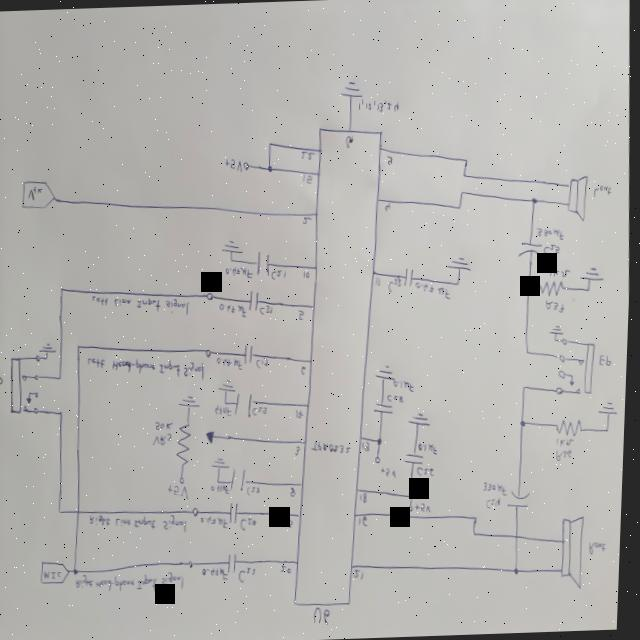capacitor: (510, 487, 535, 512), (235, 392, 257, 419), (232, 466, 252, 493), (518, 240, 545, 260), (257, 252, 273, 276), (406, 450, 427, 467), (249, 289, 263, 313), (244, 343, 257, 365), (375, 402, 396, 414), (231, 552, 240, 574), (232, 502, 241, 524), (406, 268, 415, 288)
crossover: (517, 532, 523, 540), (79, 508, 84, 516)
ground: (409, 410, 435, 428), (447, 255, 474, 272), (581, 265, 606, 282), (377, 362, 398, 382), (180, 392, 203, 410), (340, 82, 364, 99), (600, 401, 621, 416), (224, 240, 244, 255), (220, 378, 238, 394), (214, 456, 233, 470), (551, 324, 566, 336), (42, 342, 58, 353)
junction: (517, 566, 523, 576), (60, 410, 67, 418), (267, 165, 274, 173), (475, 514, 482, 522), (523, 419, 529, 428), (380, 437, 386, 446), (464, 157, 470, 165), (76, 568, 82, 576), (411, 492, 417, 499), (269, 140, 274, 148), (532, 197, 538, 203), (527, 281, 533, 287), (525, 384, 529, 392), (458, 205, 463, 211), (60, 374, 65, 380), (463, 172, 468, 178), (587, 288, 592, 294), (608, 427, 612, 434), (476, 530, 480, 537), (219, 479, 224, 484), (61, 508, 65, 514), (527, 349, 531, 355), (461, 190, 465, 196), (457, 282, 461, 288), (79, 344, 83, 350), (62, 288, 66, 293), (226, 400, 230, 405), (47, 356, 50, 361), (557, 338, 560, 342), (232, 258, 235, 262)
resistor: (179, 422, 220, 468), (557, 418, 586, 438), (540, 279, 566, 298)
source: (243, 162, 249, 171)
terminal: (555, 339, 600, 397), (10, 354, 45, 416), (22, 179, 56, 209), (42, 560, 74, 586), (207, 348, 215, 358), (378, 455, 384, 465), (182, 476, 188, 484), (208, 292, 214, 300), (195, 508, 201, 516), (411, 504, 417, 512), (192, 560, 197, 568)
text: (88, 352, 209, 384), (91, 292, 192, 321), (78, 570, 189, 594), (93, 516, 190, 534), (416, 280, 453, 301), (357, 98, 400, 114), (313, 440, 354, 455), (220, 302, 249, 319), (485, 479, 512, 497), (226, 264, 256, 280), (395, 376, 419, 394), (206, 566, 233, 582), (537, 226, 565, 241), (204, 516, 232, 530), (419, 440, 442, 456), (242, 566, 262, 584), (590, 540, 612, 556), (218, 356, 245, 369), (546, 298, 567, 314), (171, 484, 192, 500), (316, 606, 334, 624), (154, 432, 174, 448), (593, 184, 614, 199), (28, 186, 45, 204), (224, 158, 244, 173), (419, 464, 439, 479), (213, 482, 233, 496), (243, 516, 260, 532), (216, 404, 235, 418), (417, 502, 437, 514), (157, 420, 177, 432), (389, 277, 404, 293), (390, 392, 408, 405), (550, 268, 573, 278), (46, 569, 65, 581), (559, 448, 575, 462), (489, 496, 505, 510), (384, 466, 400, 480), (271, 268, 288, 281), (559, 437, 578, 448), (545, 243, 561, 256), (344, 134, 356, 150), (601, 353, 614, 367), (261, 304, 275, 316), (254, 406, 270, 416), (285, 518, 298, 530), (250, 485, 264, 496), (258, 358, 271, 369), (357, 568, 368, 580), (361, 515, 372, 527), (303, 173, 313, 185), (297, 408, 306, 421), (301, 152, 315, 160), (283, 566, 296, 574), (363, 492, 371, 504), (299, 310, 307, 322), (365, 440, 373, 452), (302, 364, 310, 376), (0, 374, 6, 388), (293, 486, 300, 498), (297, 445, 304, 457), (304, 270, 312, 280), (387, 155, 394, 166), (386, 202, 392, 214), (377, 276, 383, 288), (303, 216, 312, 224)
